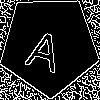A: (24, 20, 68, 73)
